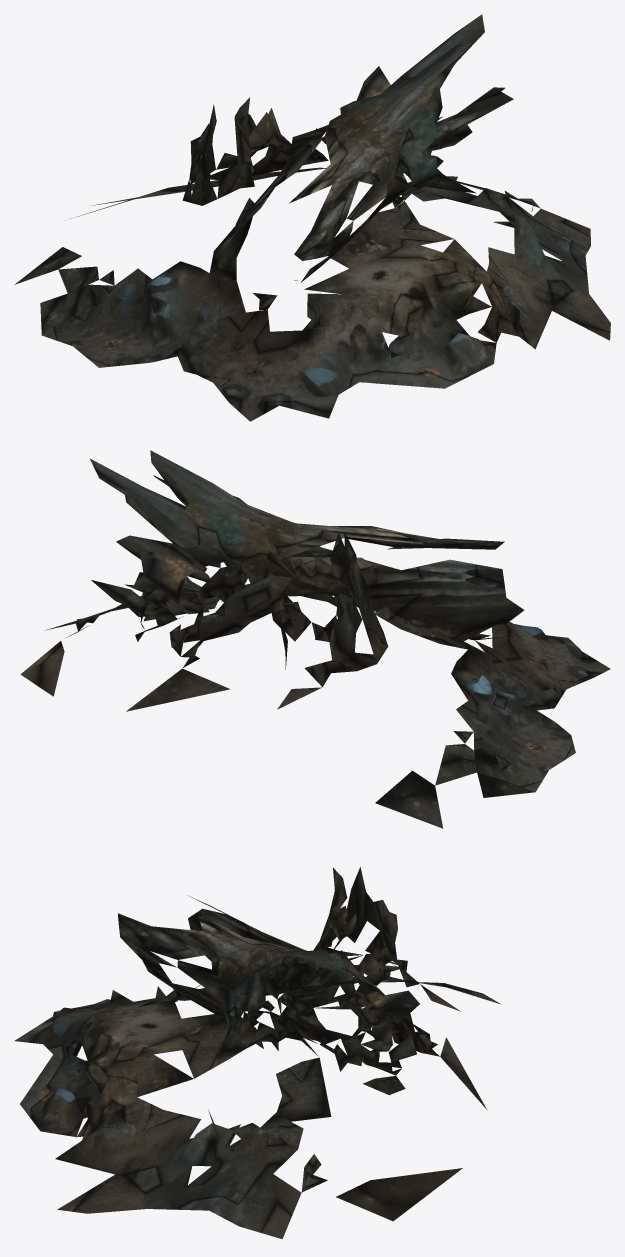
Rendered from swamp-hill-2.glb.
3 renders of one model, top to bottom at view 1: azimuth 30°, elevation 25°; view 2: azimuth 150°, elevation 25°; view 3: azimuth 270°, elevation 25°, orthographic. The views are drawn at different scales.
Parts seen in each view (by area): view 1: geometry_0; view 2: geometry_0; view 3: geometry_0.
Boxes of the visible parts, x1,y1,x2,y2 form: geometry_0: [14, 14, 610, 421]; geometry_0: [20, 450, 610, 828]; geometry_0: [14, 867, 500, 1239].
Bounding box in the file's own units: 0.8674 × 0.3601 × 0.8091.
1 material, 1 textured.
